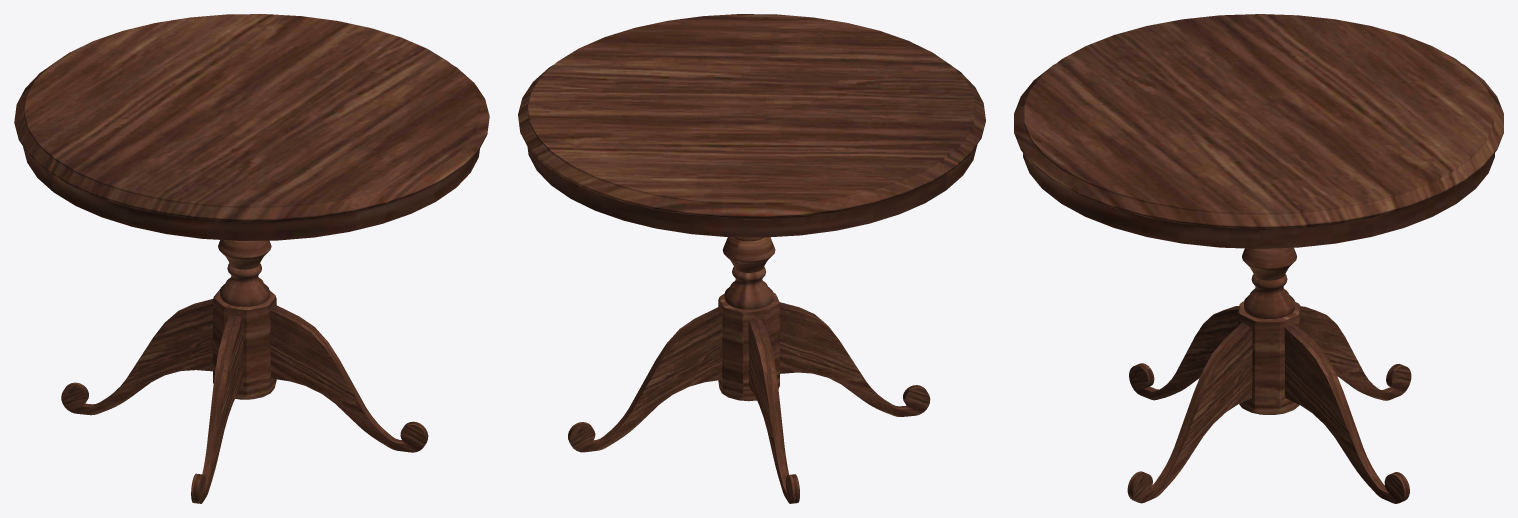
File: Circular_table.fbx
The picture shows the model from 3 angles, left to right: view 1: azimuth 30°, elevation 25°; view 2: azimuth 150°, elevation 25°; view 3: azimuth 270°, elevation 25°; orthographic projection. The views are drawn at different scales.
Parts seen in each view (by area): view 1: Circular table; view 2: Circular table; view 3: Circular table.
Part boxes in pixels (bbox=[...]): Circular table: bbox=[14, 14, 489, 503]; Circular table: bbox=[518, 14, 985, 503]; Circular table: bbox=[1014, 14, 1503, 503].
Size of the model in its own units: 2.02 by 1.53 by 2.02.
